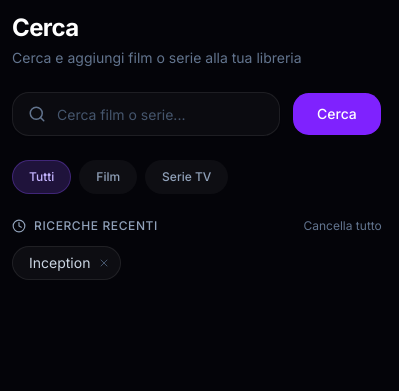
shows Film and Serie badges in Tutti mode
This screenshot has width=399, height=391.
In the field with placeholder "Cerca film o serie...": (146, 114) [12,92,280,136], type "test"
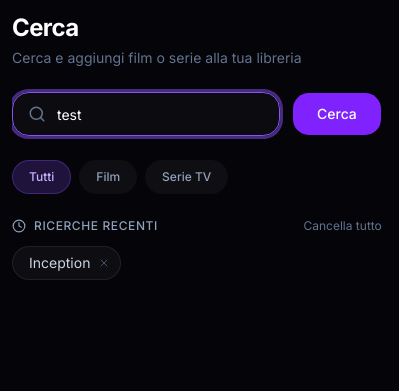
Press Enter
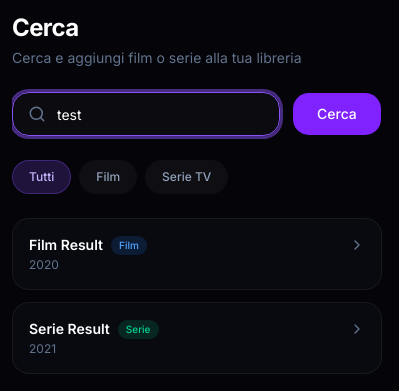
expect the text "Film Result" is shown: met, box [29,235,103,255]
expect the text "Serie Result" is shown: met, box [29,319,110,339]
